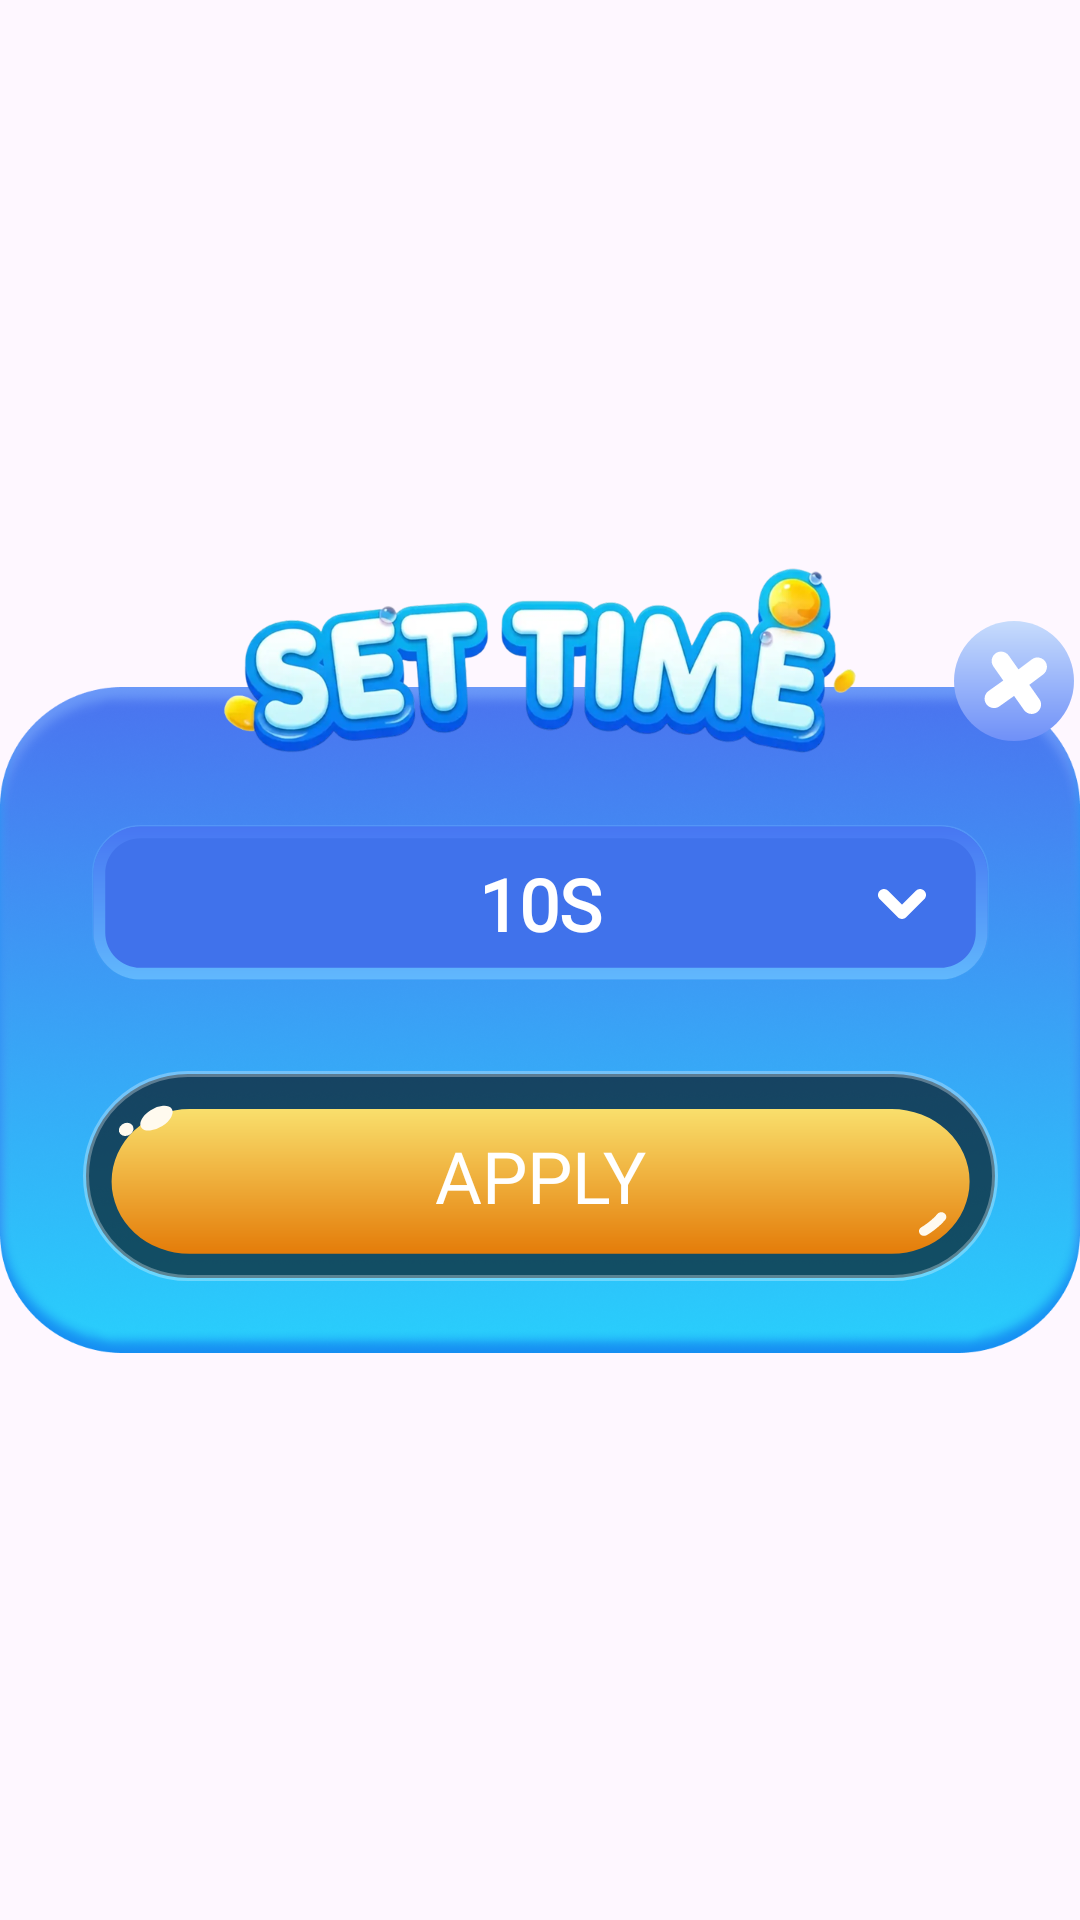

Point at icon controls on the screen. Image size 1080x1920, points as point (x, y).
delete: point (1014, 687)
